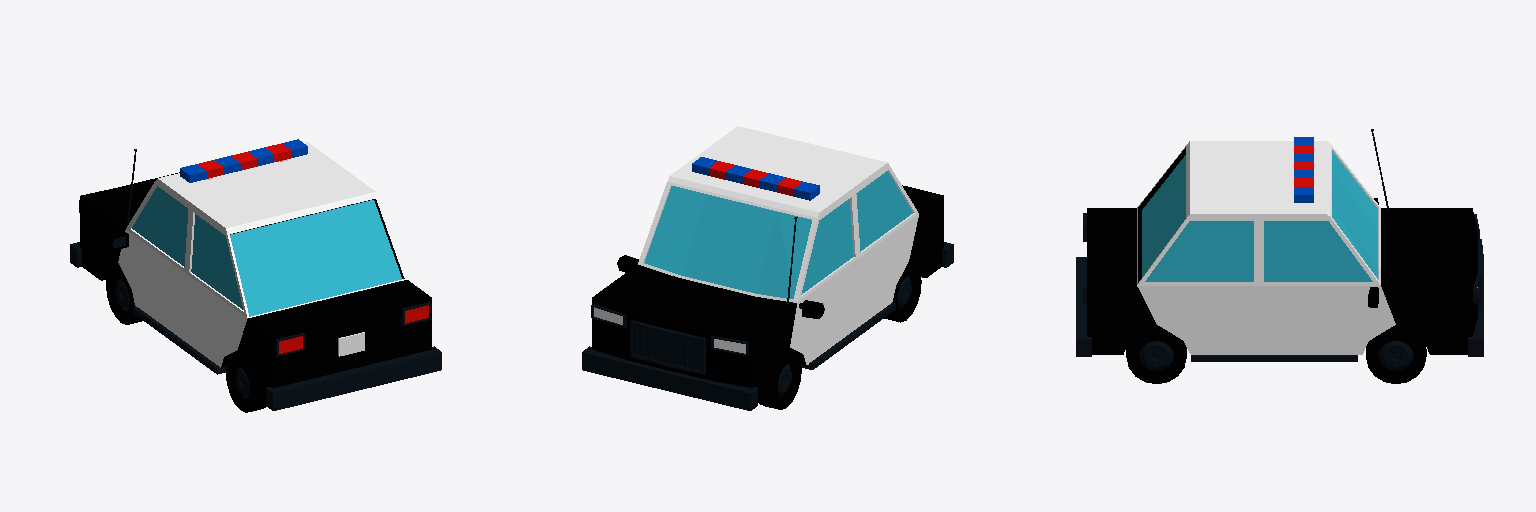
The model's file is Police_Car_01.obj.
3 views of the same model, side by side, from view 1: azimuth 30°, elevation 25°; view 2: azimuth 150°, elevation 25°; view 3: azimuth 270°, elevation 25° (orthographic).
Visible parts, largest first — view 1: Police_Car_Cube.025; view 2: Police_Car_Cube.025; view 3: Police_Car_Cube.025.
Part boxes in pixels (x1,y1,x2,y2): Police_Car_Cube.025: (70,139,441,412); Police_Car_Cube.025: (582,126,953,410); Police_Car_Cube.025: (1076,129,1483,383).
Size of the model in its own units: 12.58 by 10.66 by 21.67.